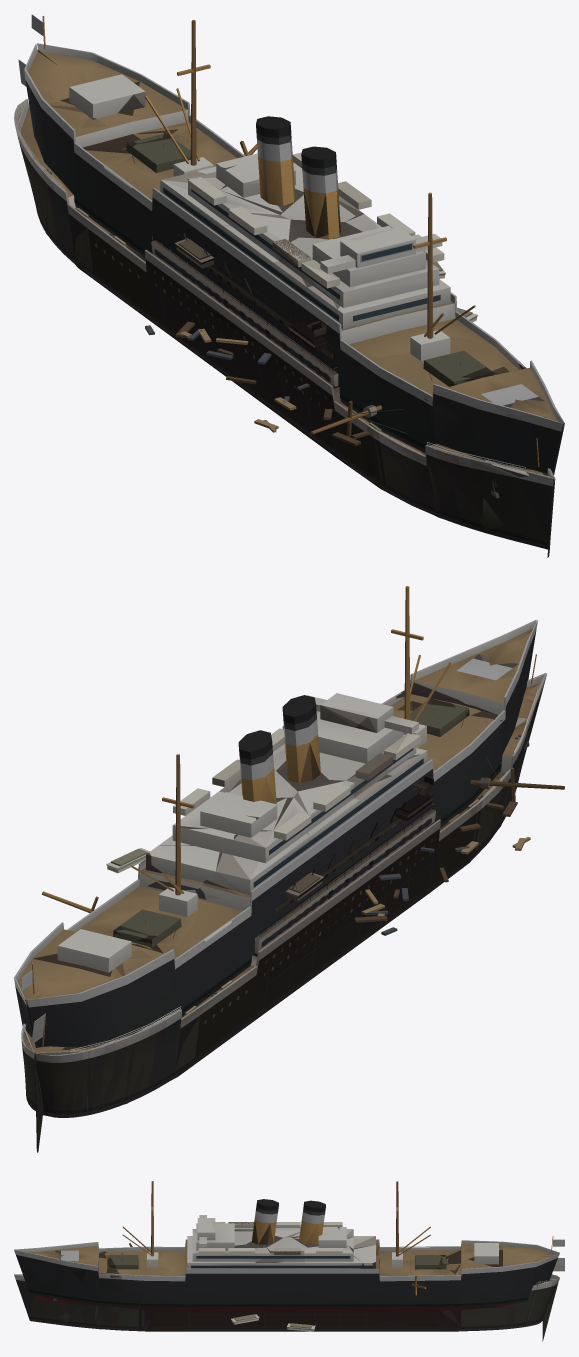
The model's file is ship_any_transport_fractured.glb.
3 views of the same model, one above another, from view 1: azimuth 30°, elevation 25°; view 2: azimuth 150°, elevation 25°; view 3: azimuth 270°, elevation 25° (orthographic). The views are drawn at different scales.
Parts seen in each view (by area): view 1: ship_any_transport_DMG_mesh, ship_any_transport_RUIN_LOD0_mesh, ship_any_transport_RUIN_LOD1_mesh, ship_any_transport_FRAC_08_mesh, ship_any_transport_FRAC_32_mesh, ship_any_transport_FRAC_28_mesh, ship_any_transport_FRAC_12_mesh, ship_any_transport_FRAC_36_mesh, ship_any_transport_FRAC_24_mesh, ship_any_transport_RUIN_LOD2_mesh, ship_any_transport_FRAC_34_mesh, ship_any_transport_FRAC_17_mesh (+11 smaller); view 2: ship_any_transport_DMG_mesh, ship_any_transport_RUIN_LOD0_mesh, ship_any_transport_RUIN_LOD1_mesh, ship_any_transport_FRAC_32_mesh, ship_any_transport_FRAC_36_mesh, ship_any_transport_FRAC_12_mesh, ship_any_transport_FRAC_08_mesh, ship_any_transport_FRAC_24_mesh, ship_any_transport_FRAC_27_mesh, ship_any_transport_FRAC_15_mesh, ship_any_transport_RUIN_LOD2_mesh, ship_any_transport_FRAC_17_mesh (+13 smaller); view 3: ship_any_transport_DMG_mesh, ship_any_transport_RUIN_LOD0_mesh, ship_any_transport_RUIN_LOD1_mesh, ship_any_transport_FRAC_35_mesh, ship_any_transport_FRAC_30_mesh, ship_any_transport_FRAC_38_mesh, ship_any_transport_FRAC_37_mesh, ship_any_transport_FRAC_34_mesh, ship_any_transport_FRAC_21_mesh, ship_any_transport_FRAC_39_mesh, ship_any_transport_FRAC_08_mesh, ship_any_transport_FRAC_12_mesh (+15 smaller).
Boxes of the visible parts, x1=… form: ship_any_transport_DMG_mesh: x1=24, y1=14, x2=564, y2=474; ship_any_transport_RUIN_LOD0_mesh: x1=14, y1=59, x2=554, y2=545; ship_any_transport_RUIN_LOD1_mesh: x1=15, y1=73, x2=555, y2=557; ship_any_transport_FRAC_08_mesh: x1=342, y1=335, x2=512, y2=448; ship_any_transport_FRAC_32_mesh: x1=36, y1=91, x2=138, y2=230; ship_any_transport_FRAC_28_mesh: x1=314, y1=258, x2=456, y2=402; ship_any_transport_FRAC_12_mesh: x1=421, y1=360, x2=547, y2=429; ship_any_transport_FRAC_36_mesh: x1=131, y1=167, x2=225, y2=275; ship_any_transport_FRAC_24_mesh: x1=103, y1=147, x2=241, y2=257; ship_any_transport_RUIN_LOD2_mesh: x1=20, y1=101, x2=554, y2=557; ship_any_transport_FRAC_34_mesh: x1=416, y1=358, x2=524, y2=463; ship_any_transport_FRAC_17_mesh: x1=301, y1=239, x2=373, y2=355; ship_any_transport_DMG_mesh: x1=14, y1=620, x2=537, y2=1047; ship_any_transport_RUIN_LOD0_mesh: x1=21, y1=654, x2=546, y2=1150; ship_any_transport_RUIN_LOD1_mesh: x1=23, y1=673, x2=546, y2=1152; ship_any_transport_FRAC_32_mesh: x1=91, y1=936, x2=207, y2=1045; ship_any_transport_FRAC_36_mesh: x1=200, y1=824, x2=313, y2=957; ship_any_transport_FRAC_12_mesh: x1=410, y1=650, x2=521, y2=720; ship_any_transport_FRAC_08_mesh: x1=384, y1=702, x2=500, y2=827; ship_any_transport_FRAC_24_mesh: x1=101, y1=882, x2=251, y2=998; ship_any_transport_FRAC_27_mesh: x1=149, y1=829, x2=234, y2=888; ship_any_transport_FRAC_15_mesh: x1=318, y1=729, x2=376, y2=780; ship_any_transport_RUIN_LOD2_mesh: x1=24, y1=673, x2=546, y2=1133; ship_any_transport_FRAC_17_mesh: x1=354, y1=704, x2=425, y2=832; ship_any_transport_DMG_mesh: x1=14, y1=1199, x2=559, y2=1308; ship_any_transport_RUIN_LOD0_mesh: x1=14, y1=1252, x2=564, y2=1331; ship_any_transport_RUIN_LOD1_mesh: x1=14, y1=1265, x2=564, y2=1341; ship_any_transport_FRAC_35_mesh: x1=213, y1=1256, x2=311, y2=1310; ship_any_transport_FRAC_30_mesh: x1=311, y1=1266, x2=409, y2=1310; ship_any_transport_FRAC_38_mesh: x1=138, y1=1270, x2=228, y2=1310; ship_any_transport_FRAC_37_mesh: x1=454, y1=1245, x2=533, y2=1307; ship_any_transport_FRAC_34_mesh: x1=46, y1=1251, x2=132, y2=1308; ship_any_transport_FRAC_21_mesh: x1=305, y1=1240, x2=364, y2=1308; ship_any_transport_FRAC_39_mesh: x1=409, y1=1264, x2=487, y2=1310; ship_any_transport_FRAC_08_mesh: x1=106, y1=1248, x2=169, y2=1309; ship_any_transport_FRAC_12_mesh: x1=59, y1=1242, x2=110, y2=1272.
Size of the model in its own units: 51.55 by 50.52 by 158.
